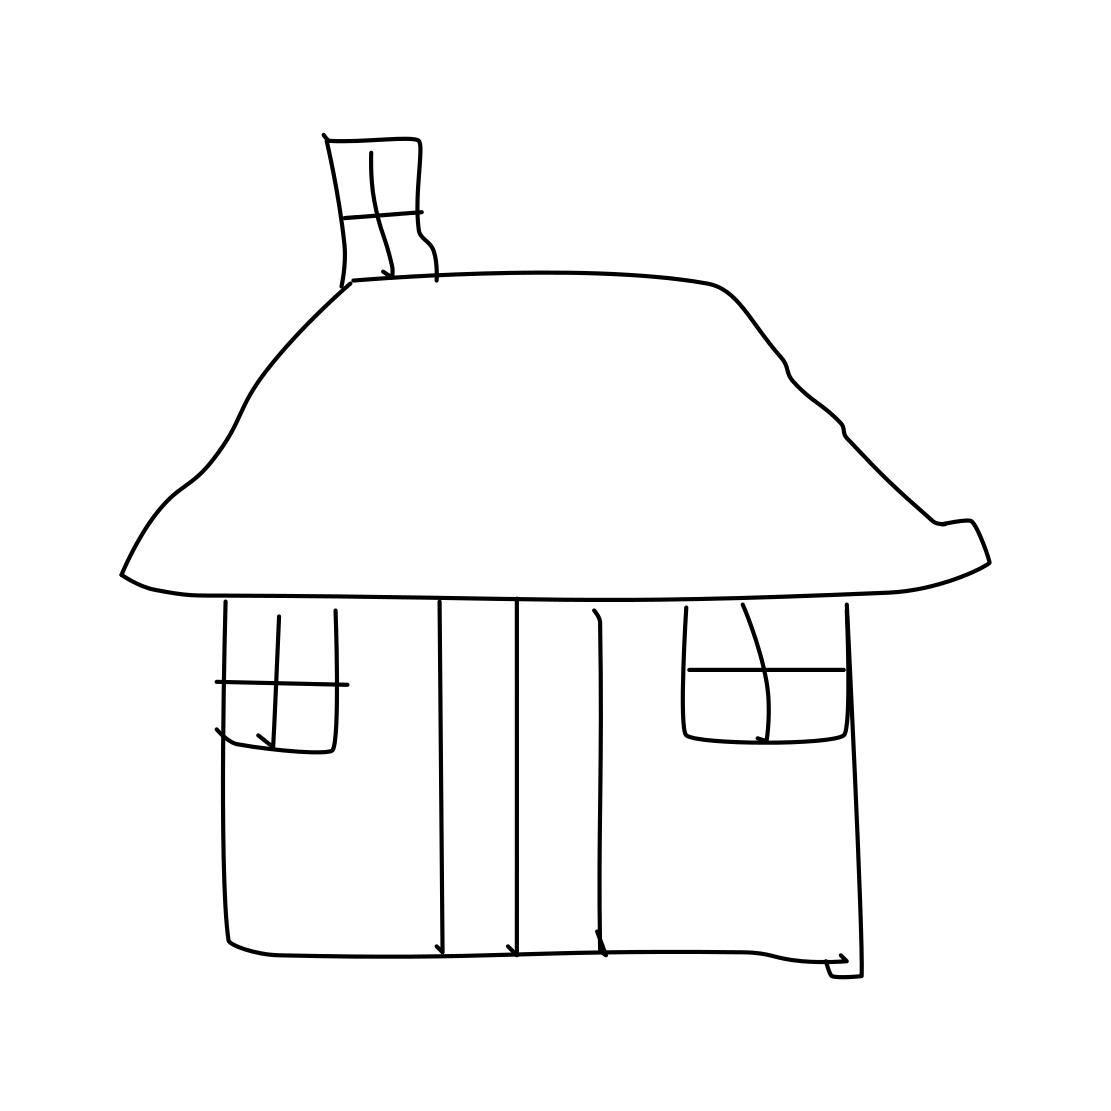House: (62, 121, 1027, 1005)
